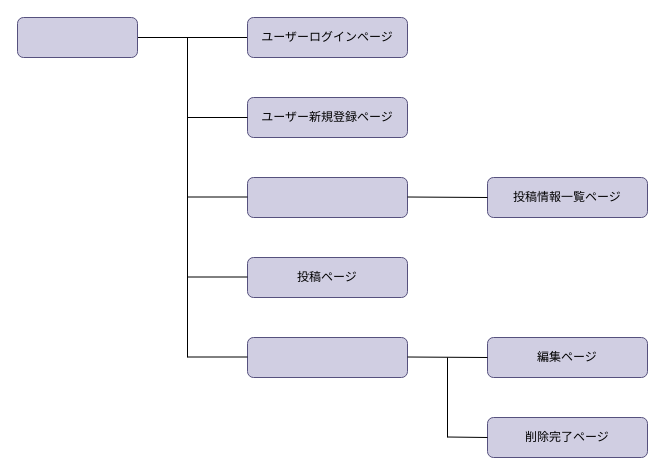
Image size: 665x475. Some labels were removed from this diagram. Each missing label, with the centre of its shape:
"ユーザーマイページ" belongs at pixel 327 197.
"一覧ページ" belongs at pixel 77 37.
"詳細ページ" belongs at pixel 327 357.
